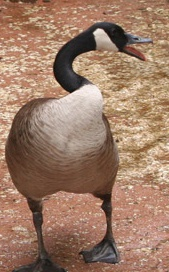goose: (4, 20, 155, 272)
